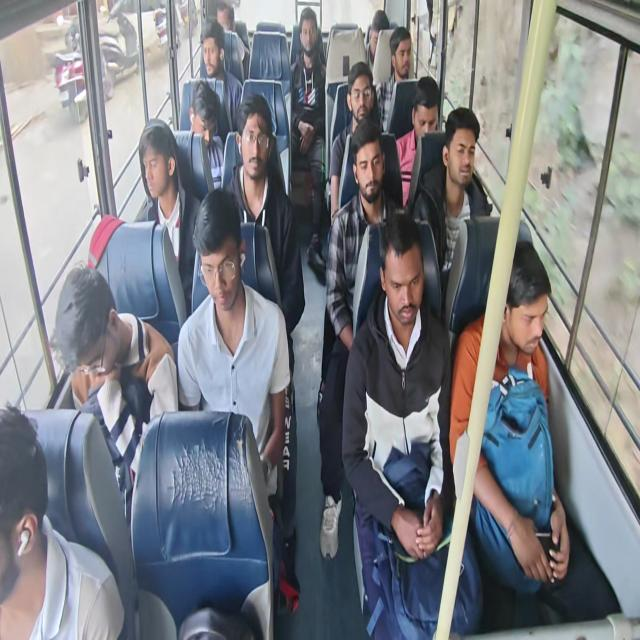person: (190, 206, 256, 324), (61, 271, 128, 384), (2, 404, 36, 577), (381, 243, 426, 324), (137, 124, 178, 197), (509, 283, 544, 360), (240, 107, 269, 179), (452, 121, 478, 190), (192, 92, 220, 152), (410, 84, 438, 144), (358, 130, 381, 203), (369, 9, 393, 49), (349, 78, 373, 115), (396, 36, 413, 78), (200, 34, 218, 71), (214, 0, 235, 29), (298, 20, 316, 52)
